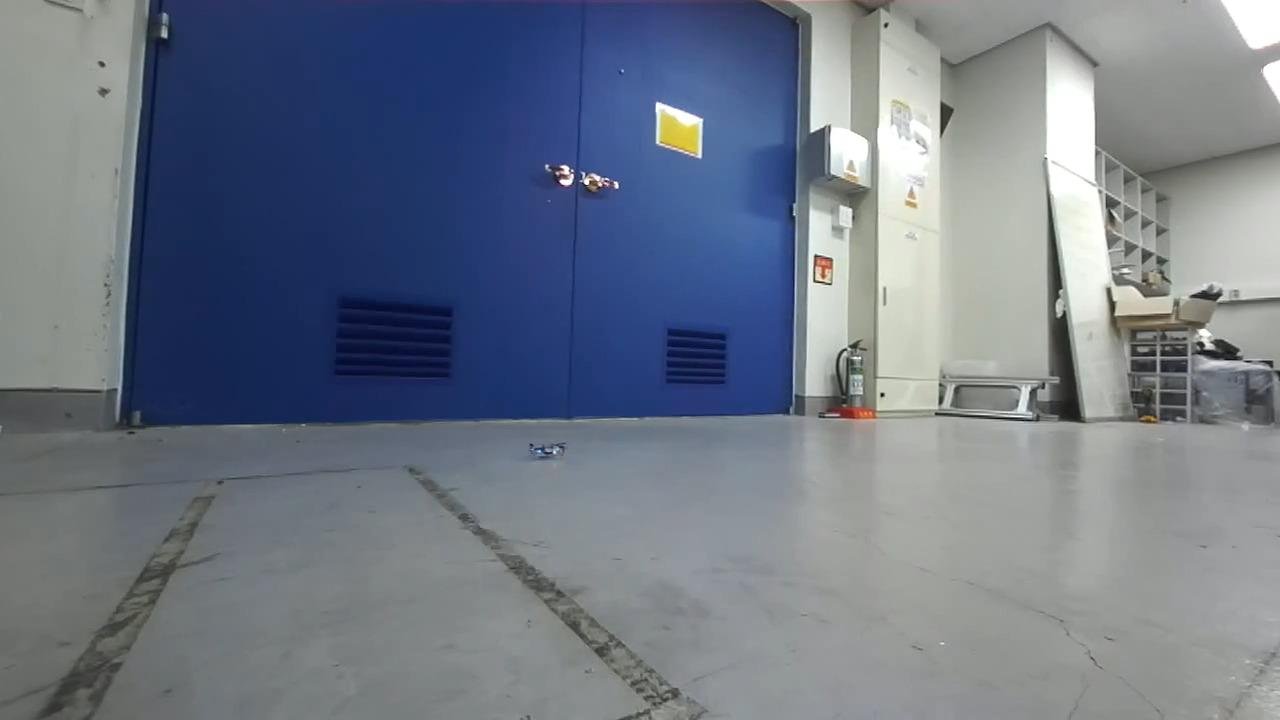crazyflie: (523, 435, 573, 465)
